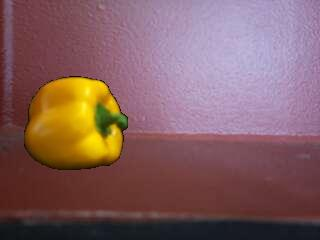Capsicum: (22, 77, 128, 172)
